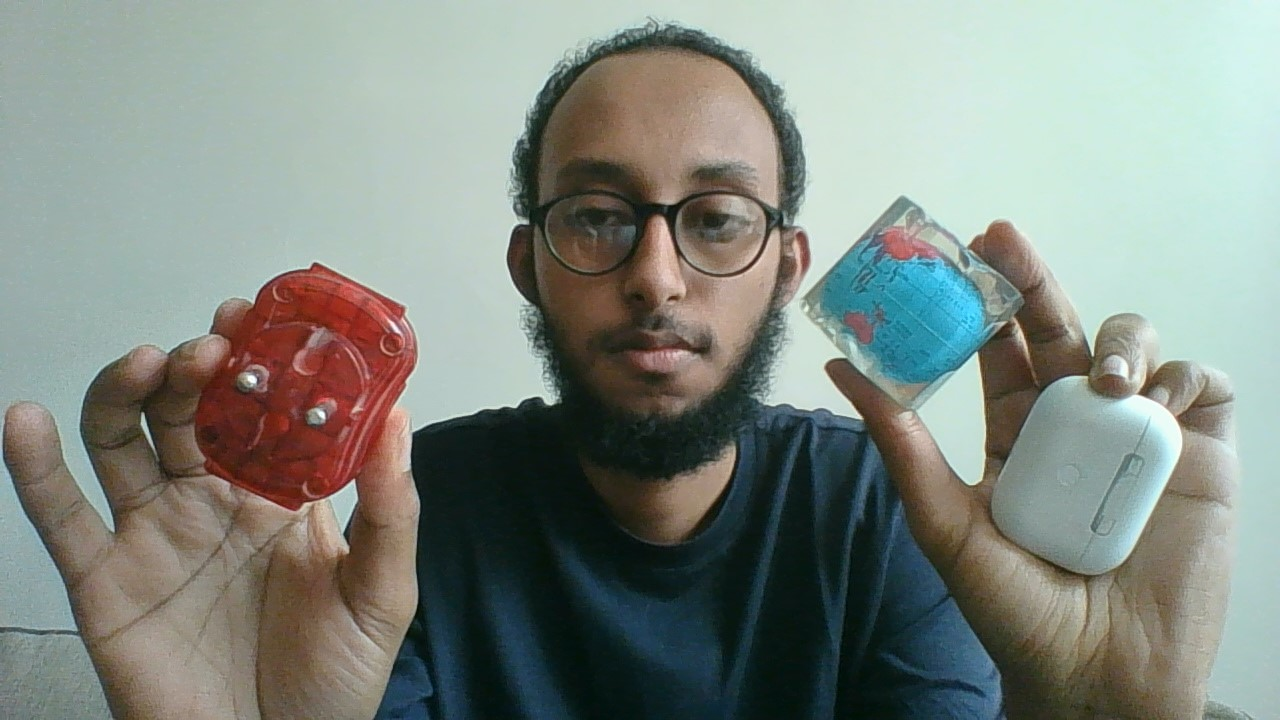Air_pod: (986, 373, 1193, 583)
Multi_adapter: (185, 258, 421, 514)
world_globe: (790, 191, 1030, 420)
